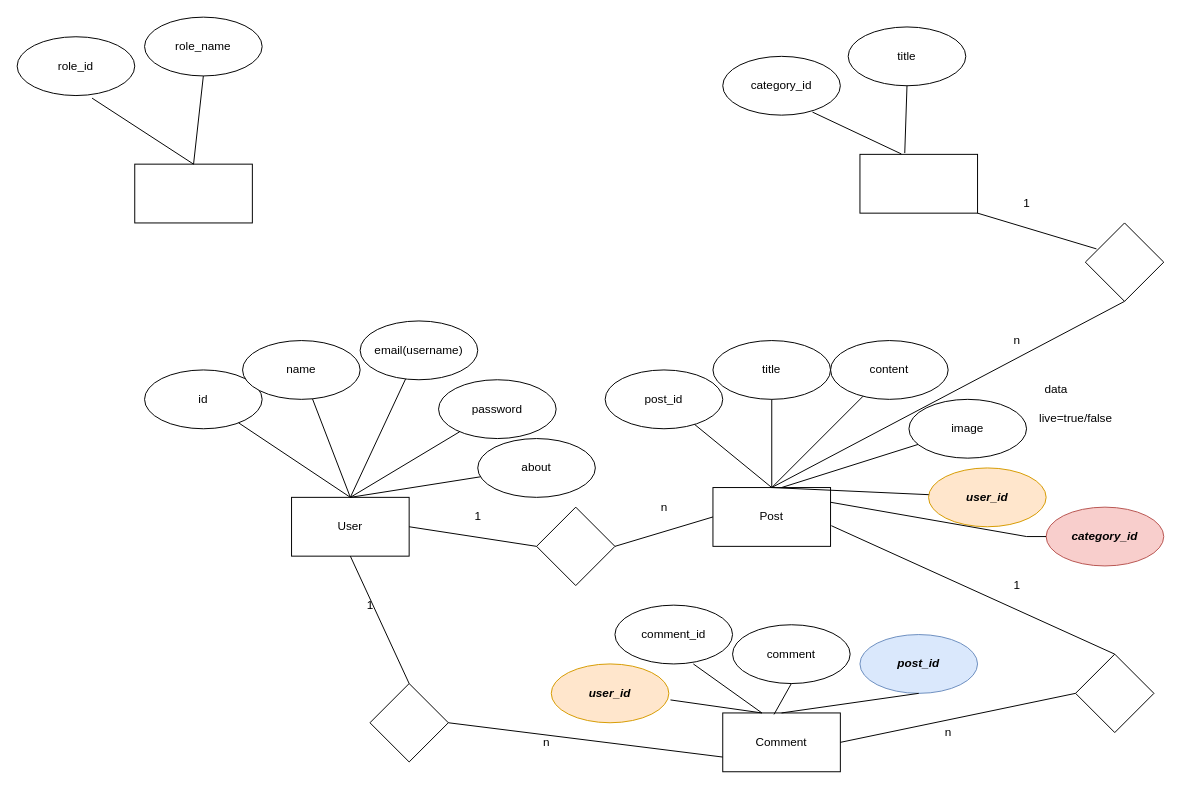
This 1181x789 diagram has some shape labels left out. The shapes that lost their labels are listed below. From the top down, each one's box as (x1, y1, x2, y2) in pixels, then its label:
(134, 163, 252, 223): Role
(859, 153, 978, 213): Category
(1084, 222, 1164, 301): contains
(536, 506, 615, 586): ca create
(1075, 653, 1154, 733): have
(369, 683, 448, 762): do
